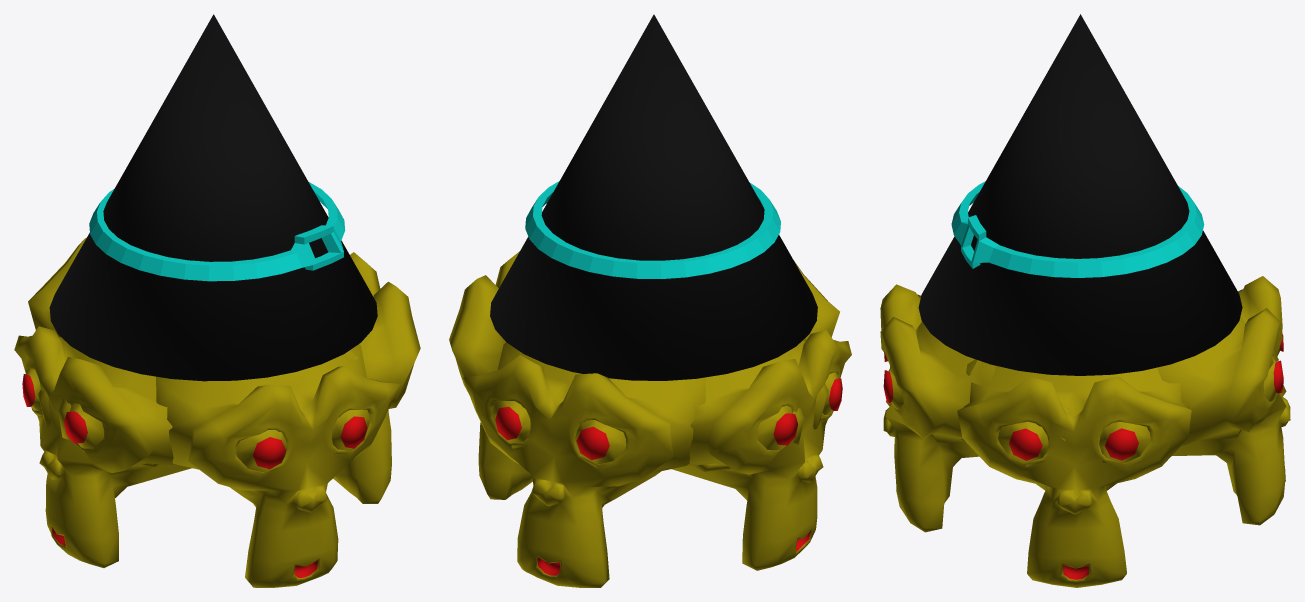
Rendered from MOnkey.fbx.
3 renders of one model, left to right at view 1: azimuth 30°, elevation 25°; view 2: azimuth 150°, elevation 25°; view 3: azimuth 270°, elevation 25°, orthographic.
Visible parts, largest first — view 1: Suzanne; view 2: Suzanne; view 3: Suzanne.
Boxes of the visible parts, x1,y1,x2,y2 form: Suzanne: (14,14,420,587); Suzanne: (449,14,851,587); Suzanne: (880,14,1290,587).
Bounding box in the file's own units: 284 × 408 × 300.
